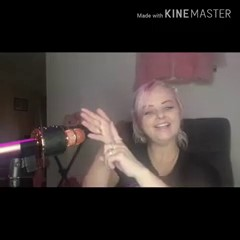L: (77, 98, 141, 180)
